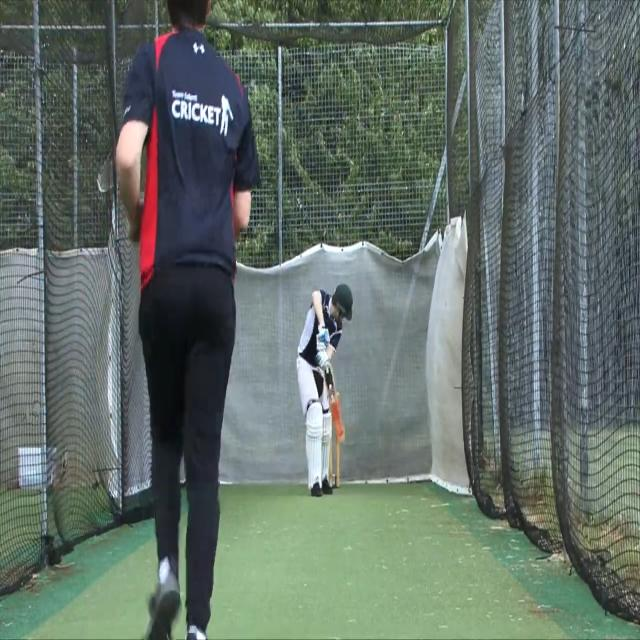batsman: (295, 282, 354, 498)
